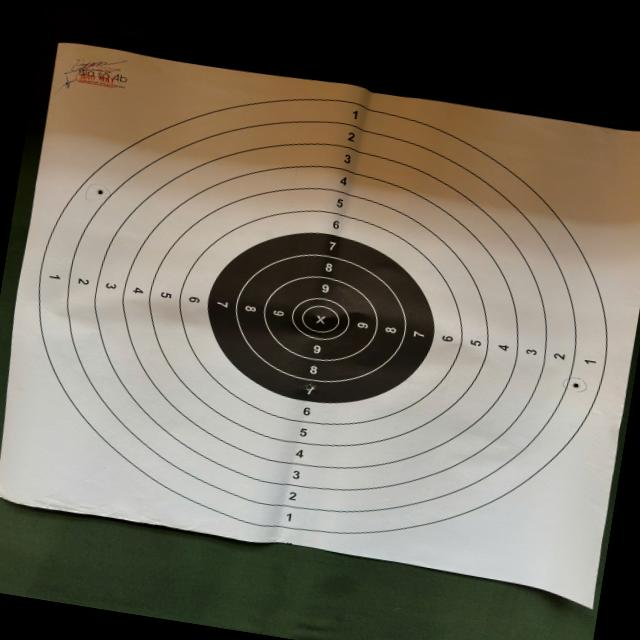bullet: (572, 381, 580, 389), (304, 384, 313, 391), (96, 189, 104, 195)
target: (0, 44, 640, 607)
